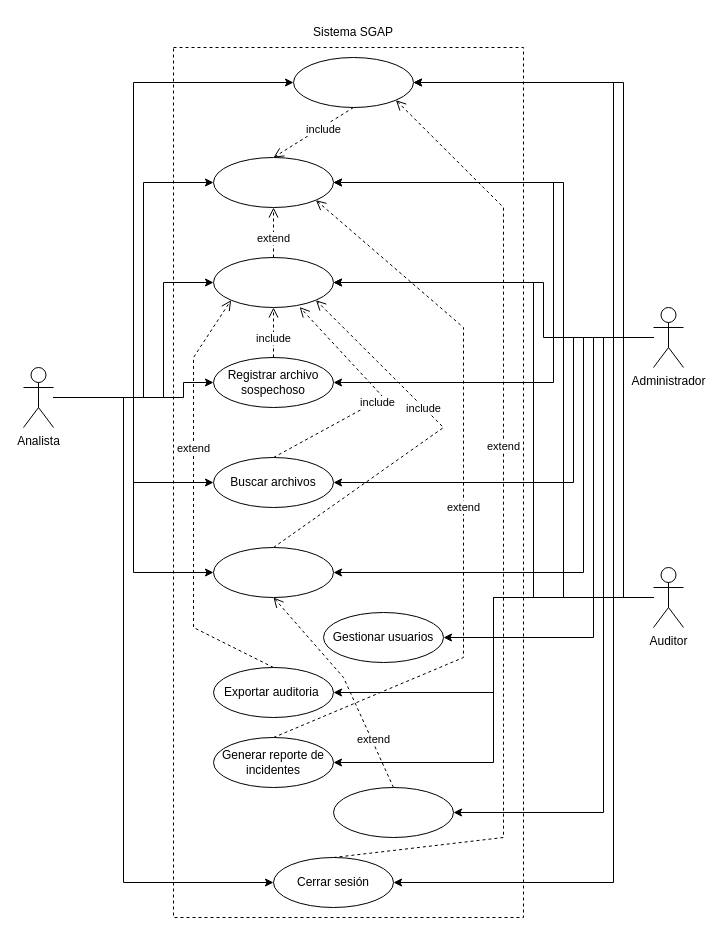
The diagram is 723 pixels wide and 935 high, and some of its shapes have lost their labels. Each missing label, with the box of its shape:
Aprobar eliminaciones: (332, 786, 454, 838)
Eliminar archivo: (212, 546, 334, 598)
Iniciar Sesión: (292, 56, 414, 108)
Ver dashboard: (212, 156, 334, 208)
Ver repositorio de archivos: (212, 256, 334, 308)
